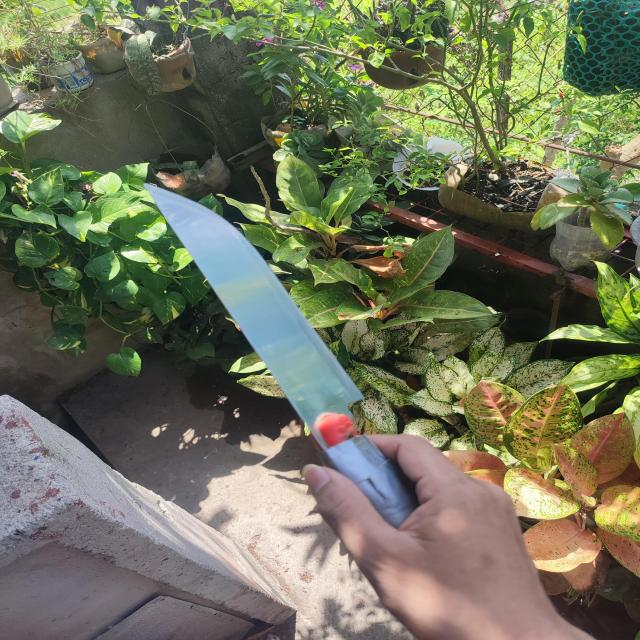knife: (144, 184, 415, 526)
